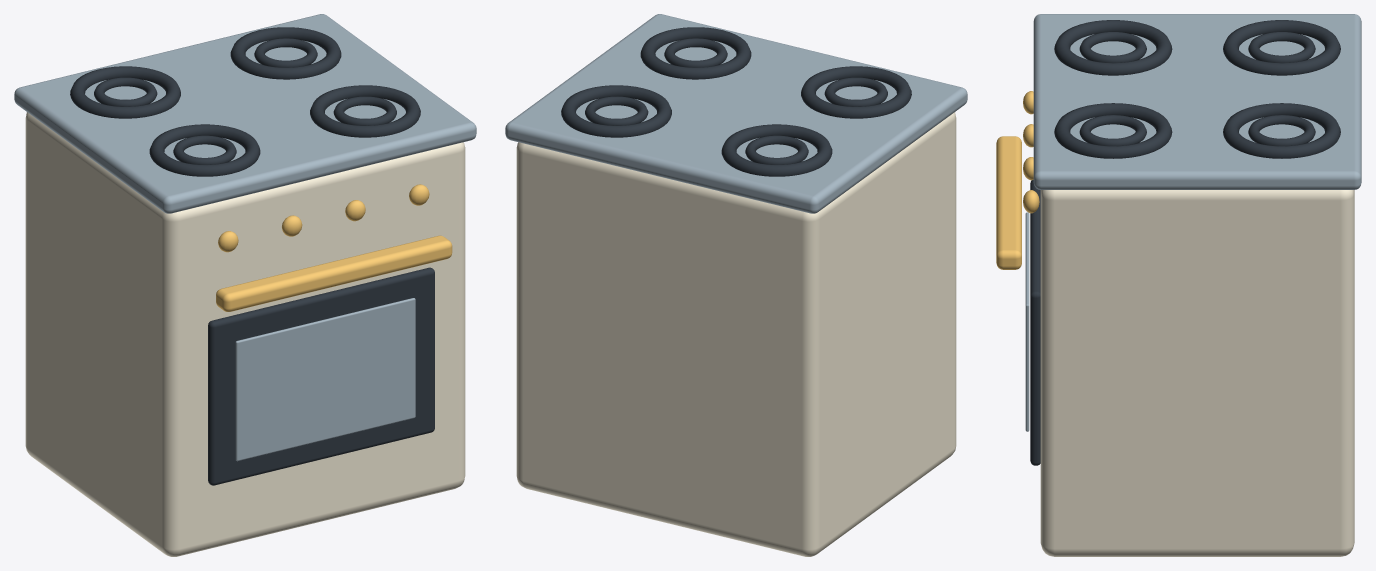
Rendered from Kitchen_Stove.glb.
The picture shows the model from 3 angles, left to right: view 1: azimuth 30°, elevation 25°; view 2: azimuth 150°, elevation 25°; view 3: azimuth 270°, elevation 25°; orthographic projection. The views are drawn at different scales.
Visible parts, largest first — view 1: Kitchen_Stove; view 2: Kitchen_Stove; view 3: Kitchen_Stove.
Part boxes in pixels (x1,y1,x2,y2): Kitchen_Stove: (14, 14, 476, 556); Kitchen_Stove: (505, 14, 967, 556); Kitchen_Stove: (996, 14, 1361, 556).
Size of the model in its own units: 0.82 by 0.942 by 0.7795.
